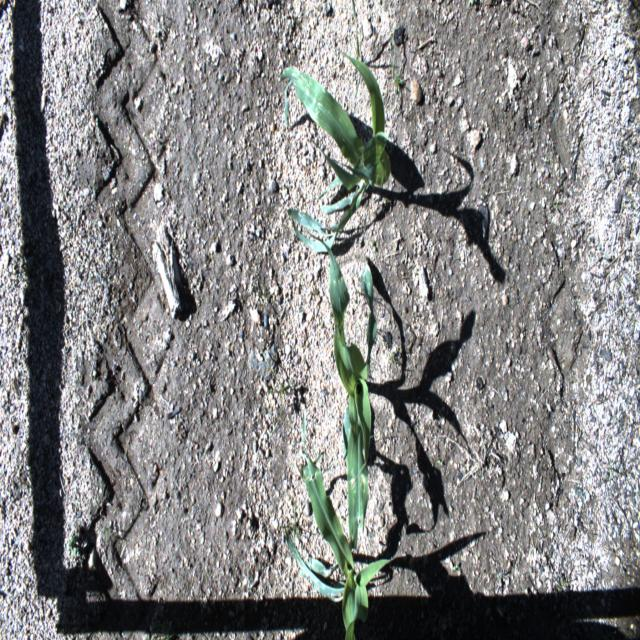crop: (285, 413, 398, 639), (307, 232, 378, 580), (279, 46, 391, 252)
weed: (261, 352, 295, 436), (281, 494, 303, 558), (392, 24, 405, 109), (352, 0, 362, 100), (254, 278, 272, 311), (554, 581, 572, 598), (66, 536, 76, 559), (306, 286, 320, 302), (370, 237, 376, 252)
